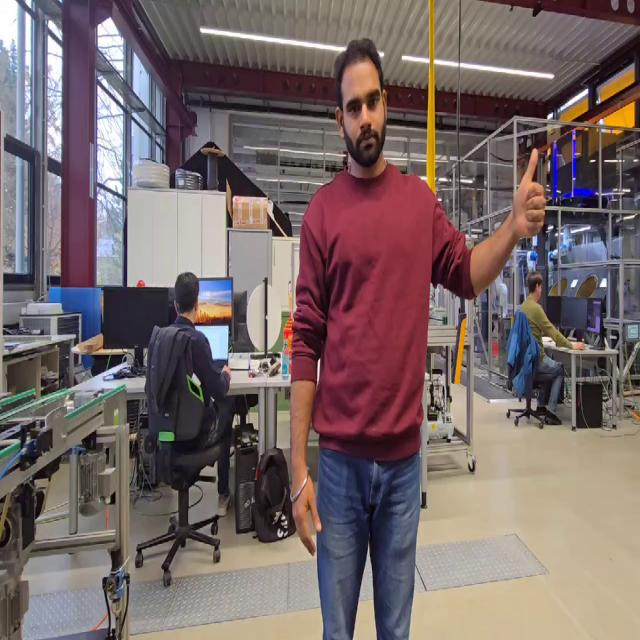thumbs_up: (509, 142, 550, 245)
